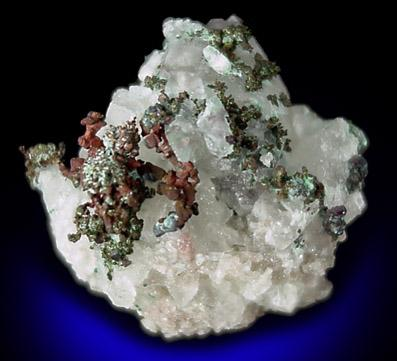copper: (59, 112, 200, 280)
